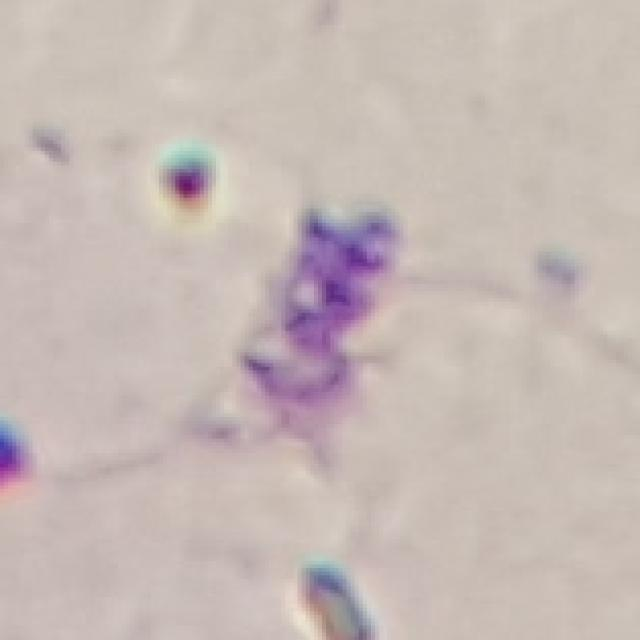non-sperm: (237, 205, 405, 421)
